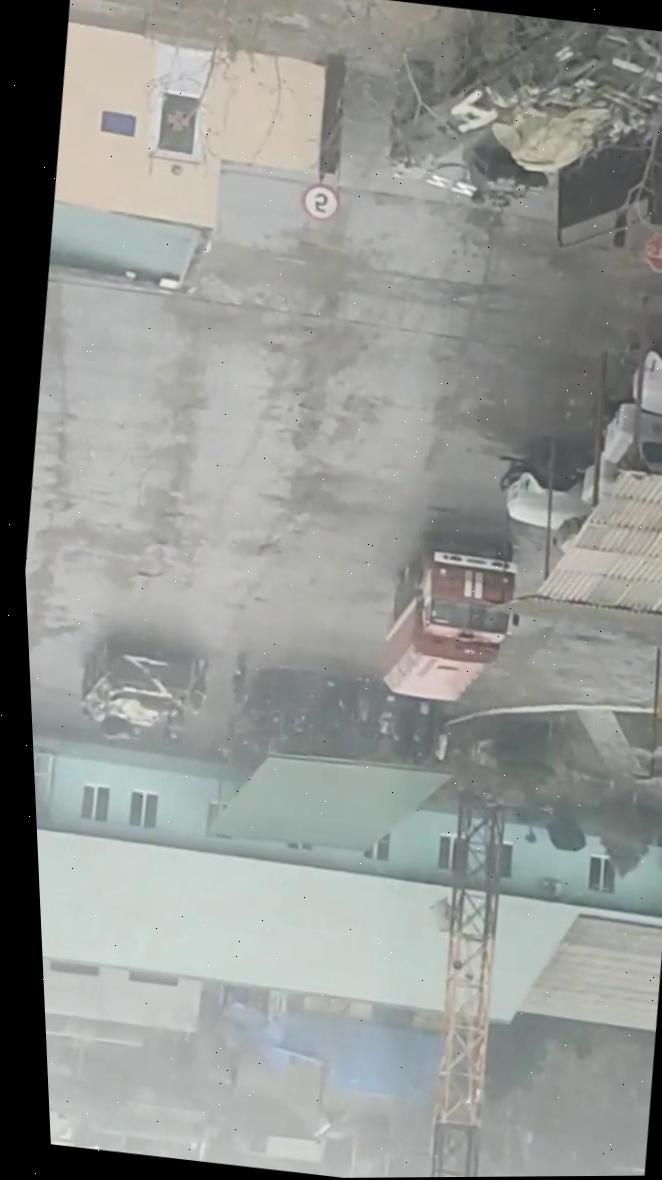person: (186, 657, 212, 715), (228, 653, 254, 708)
tank: (373, 0, 662, 238), (74, 634, 200, 748)
truck: (371, 525, 535, 709)
